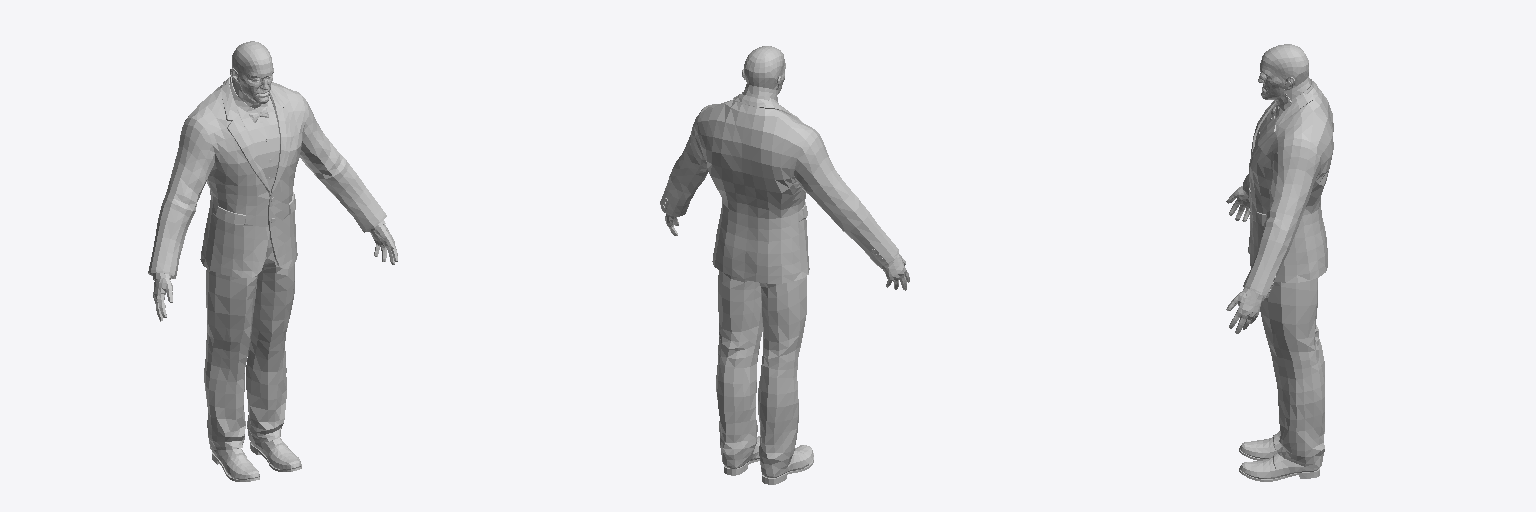
Rendered from doorman.obj.
3 renders of one model, left to right at view 1: azimuth 30°, elevation 25°; view 2: azimuth 150°, elevation 25°; view 3: azimuth 270°, elevation 25°, orthographic.
Bounding box in the file's own units: 11.97 × 20.19 × 4.69.